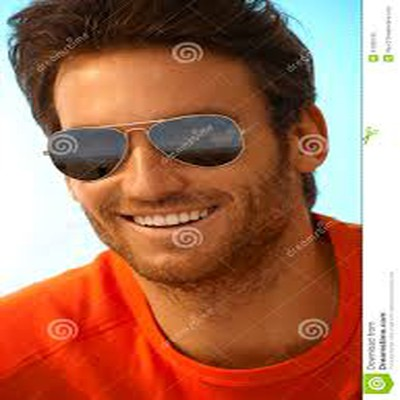eywear: (38, 59, 196, 199)
